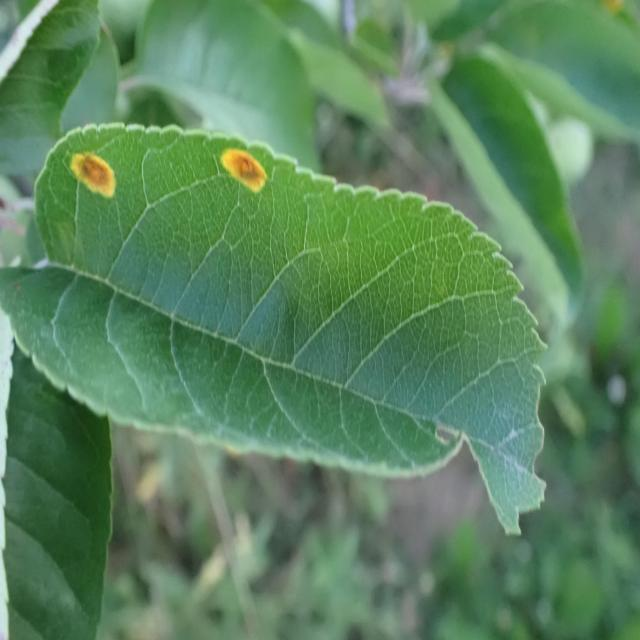Rust: (219, 132, 274, 207), (66, 145, 121, 201)
